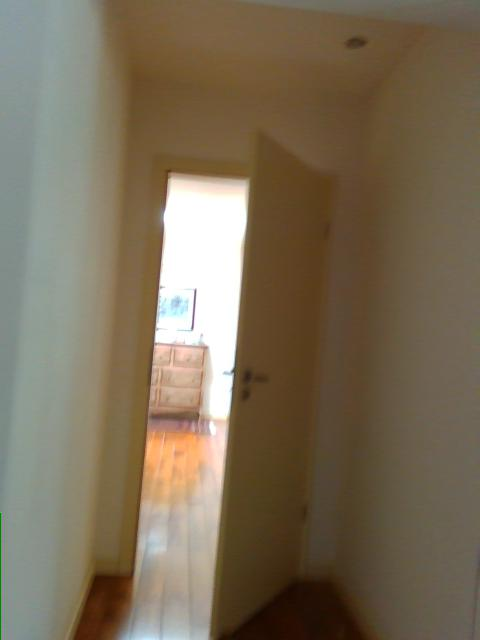semi_door: (114, 121, 332, 639)
